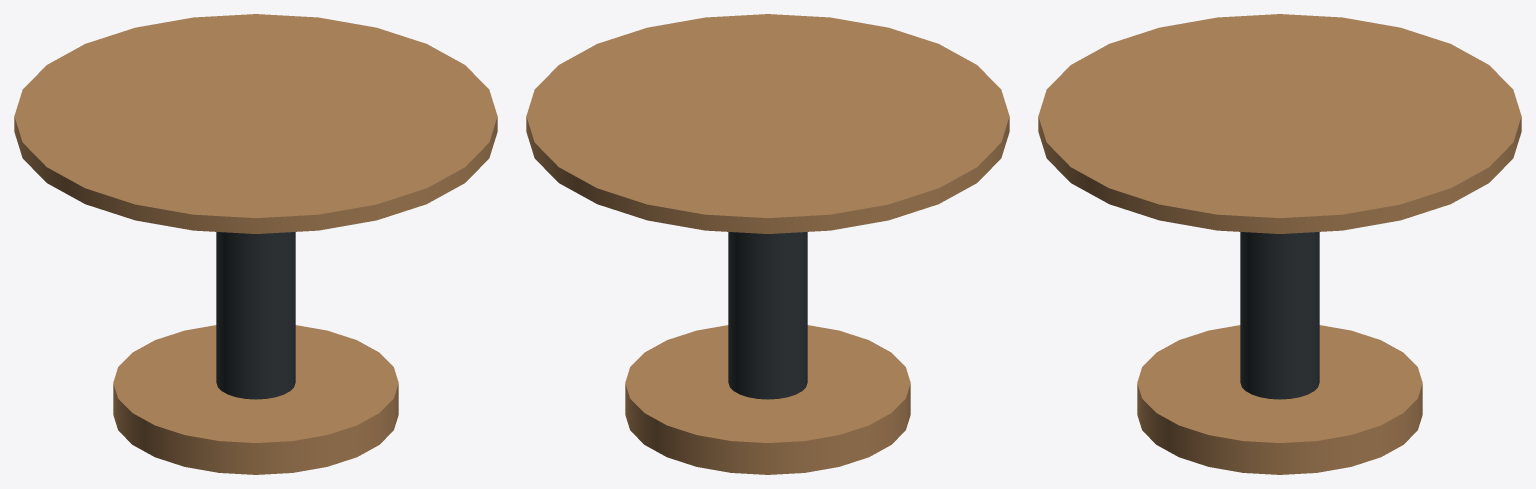
3 renders of one model, left to right at view 1: azimuth 30°, elevation 25°; view 2: azimuth 150°, elevation 25°; view 3: azimuth 270°, elevation 25°, orthographic.
Visible parts, largest first — view 1: base, column; view 2: base, column; view 3: base, column.
Boxes of the visible parts, box(x1,y1,x2,y2) form: base: box(14, 14, 497, 474); column: box(216, 232, 295, 399); base: box(526, 14, 1009, 474); column: box(728, 232, 807, 399); base: box(1038, 14, 1521, 474); column: box(1240, 232, 1319, 399).
Bounding box in the file's own units: 1.1 × 0.75 × 1.1.
